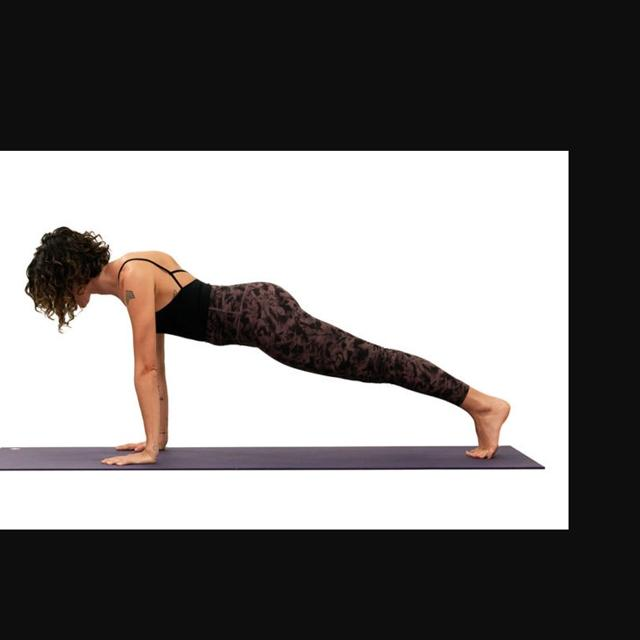Plank_Pose: (21, 226, 527, 472)
